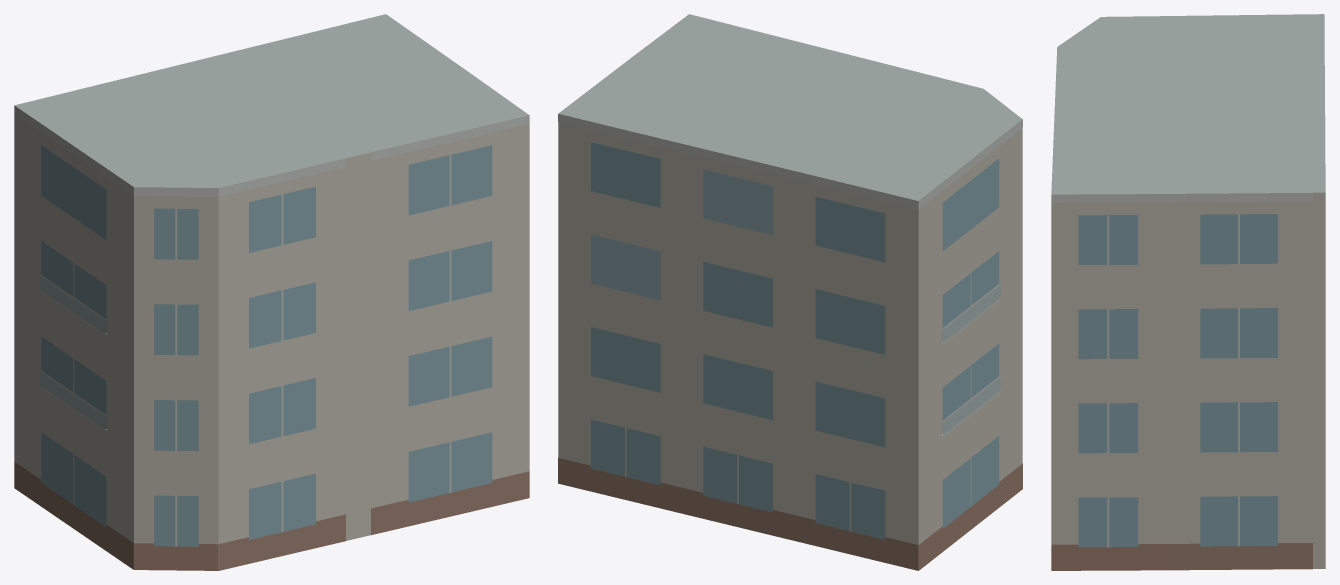
The model's file is survey-upis-32931819.glb.
3 views of the same model, side by side, from view 1: azimuth 30°, elevation 25°; view 2: azimuth 150°, elevation 25°; view 3: azimuth 270°, elevation 25° (orthographic). The views are drawn at different scales.
Parts seen in each view (by area): view 1: survey-upis-32931819.tmp; view 2: survey-upis-32931819.tmp; view 3: survey-upis-32931819.tmp.
Boxes of the visible parts, x1=… form: survey-upis-32931819.tmp: x1=14, y1=14, x2=529, y2=570; survey-upis-32931819.tmp: x1=558, y1=14, x2=1022, y2=570; survey-upis-32931819.tmp: x1=1051, y1=14, x2=1325, y2=570.
Size of the model in its own units: 10.97 by 10.65 by 7.05.
